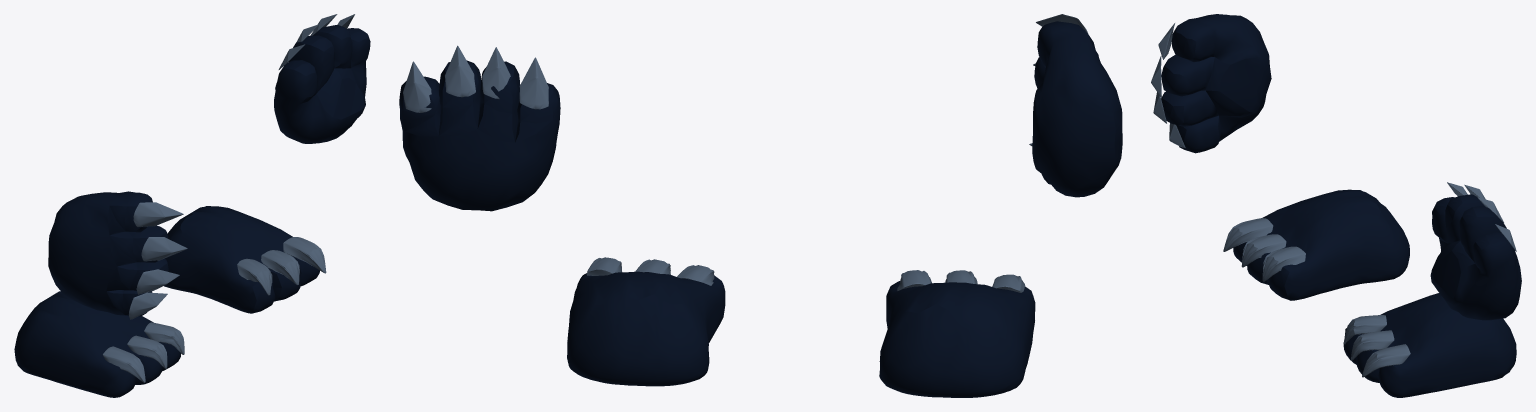
The picture shows the model from 3 angles, left to right: view 1: azimuth 30°, elevation 25°; view 2: azimuth 150°, elevation 25°; view 3: azimuth 270°, elevation 25°; orthographic projection. The views are drawn at different scales.
Visible parts, largest first — view 1: rightHand, rightFoot, leftFoot, leftHand, feet_claw, accessories_claws, claw_R; view 2: leftHand, rightFoot, leftFoot, rightHand, claw_R, feet_claw; view 3: rightFoot, rightHand, leftFoot, leftHand, feet_claw, accessories_claws, claw_R.
Part boxes in pixels (x1=…): rightHand: x1=48, y1=191, x2=168, y2=316; rightFoot: x1=14, y1=291, x2=180, y2=397; leftFoot: x1=164, y1=206, x2=319, y2=313; leftHand: x1=274, y1=25, x2=370, y2=143; feet_claw: x1=103, y1=237, x2=326, y2=382; accessories_claws: x1=129, y1=202, x2=187, y2=319; claw_R: x1=278, y1=14, x2=354, y2=69; leftHand: x1=399, y1=60, x2=560, y2=211; rightFoot: x1=879, y1=281, x2=1035, y2=397; leftFoot: x1=567, y1=271, x2=725, y2=386; rightHand: x1=1032, y1=21, x2=1122, y2=197; claw_R: x1=403, y1=45, x2=548, y2=112; feet_claw: x1=586, y1=257, x2=1025, y2=292; rightFoot: x1=1233, y1=189, x2=1409, y2=300; rightHand: x1=1161, y1=14, x2=1271, y2=153; leftFoot: x1=1343, y1=293, x2=1516, y2=397; leftHand: x1=1430, y1=194, x2=1521, y2=320; feet_claw: x1=1223, y1=218, x2=1410, y2=377; accessories_claws: x1=1151, y1=23, x2=1185, y2=147; claw_R: x1=1447, y1=182, x2=1516, y2=251.
Size of the model in its own units: 131 by 90.96 by 63.64.
